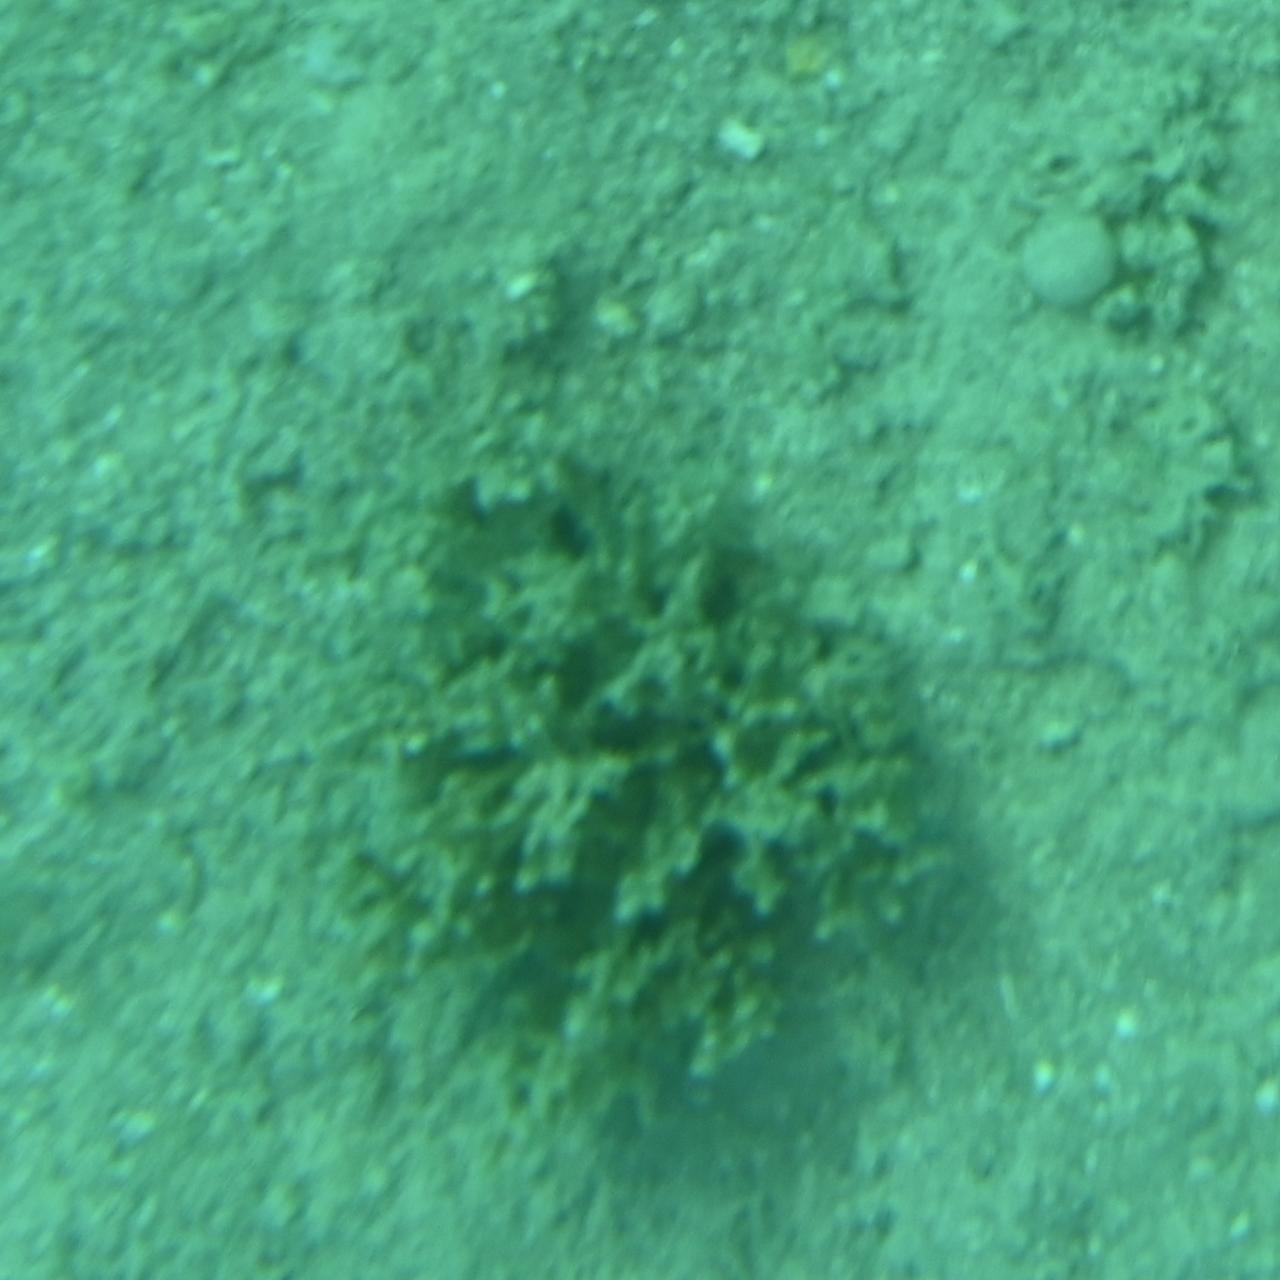Phaeophyceae -cfr Cystoseira-: (338, 447, 942, 1125)
